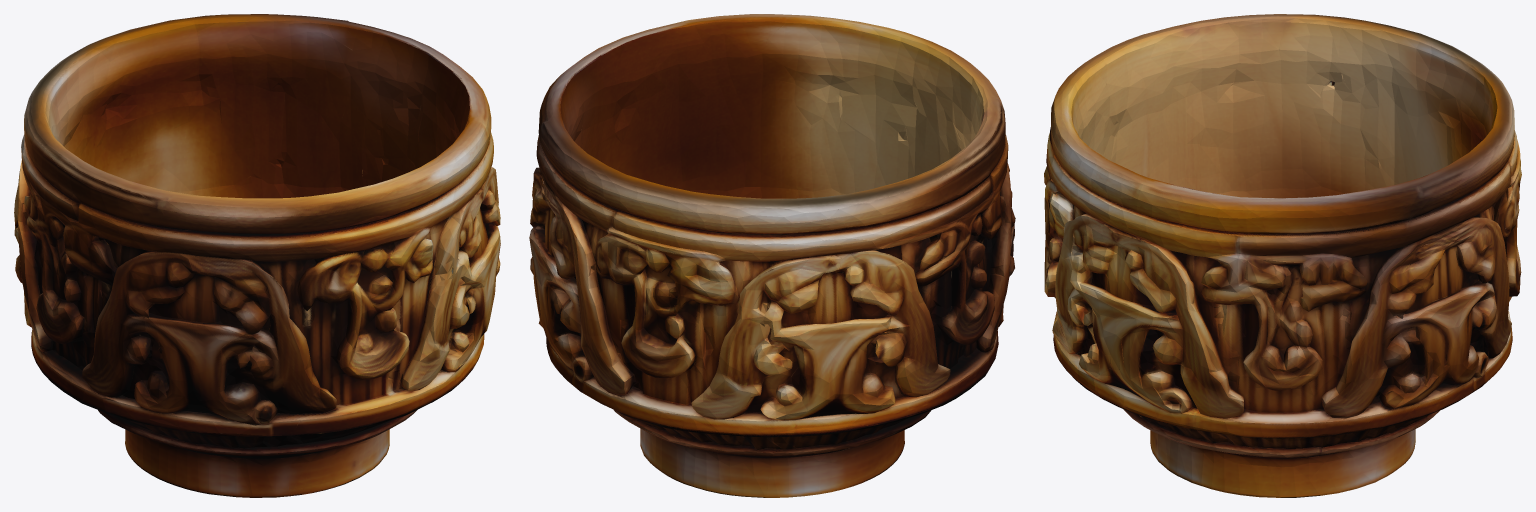
Rendered from bamboo-tea-infuser-vintage.jpeg.glb.
3 views of the same model, side by side, from view 1: azimuth 30°, elevation 25°; view 2: azimuth 150°, elevation 25°; view 3: azimuth 270°, elevation 25° (orthographic).
Parts seen in each view (by area): view 1: world; view 2: world; view 3: world.
Part boxes in pixels (<box>): world: <box>14,14,500,497</box>; world: <box>529,14,1015,497</box>; world: <box>1044,14,1521,497</box>.
Bounding box in the file's own units: 0.9972 × 0.7723 × 0.9981.
Materials: 1 (1 with a texture image).
